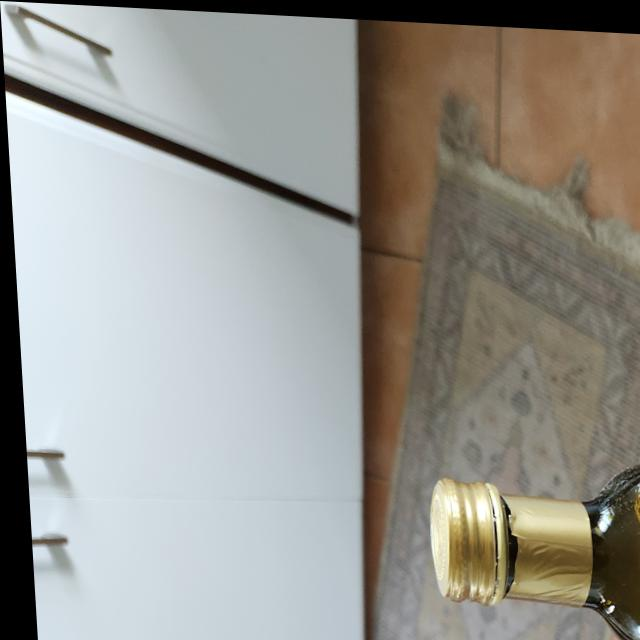red wine vinegar: (418, 441, 640, 640)
